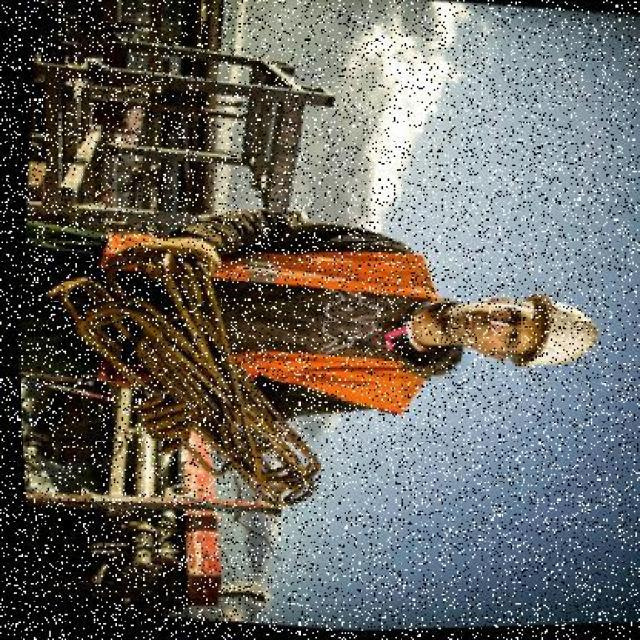helmet: (522, 296, 599, 376)
